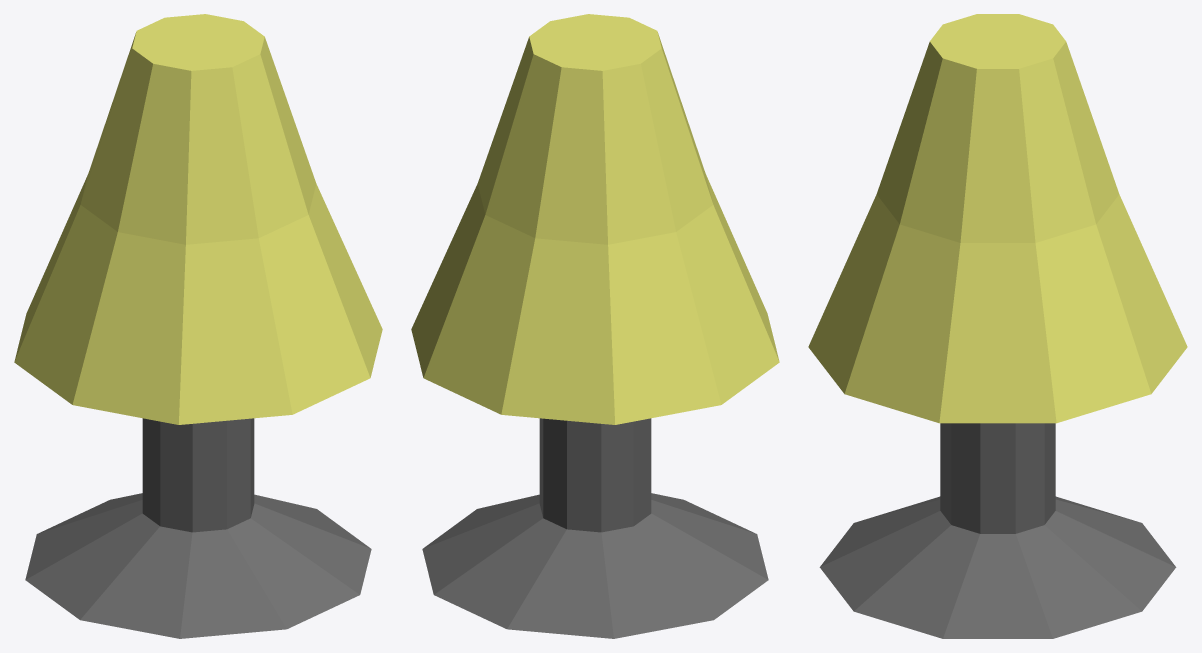
File: Lamp.fbx
3 views of the same model, side by side, from view 1: azimuth 30°, elevation 25°; view 2: azimuth 150°, elevation 25°; view 3: azimuth 270°, elevation 25° (orthographic).
Visible parts, largest first — view 1: Lamp; view 2: Lamp; view 3: Lamp.
Boxes of the visible parts, bbox=[...] form: Lamp: bbox=[14, 14, 382, 638]; Lamp: bbox=[411, 14, 779, 638]; Lamp: bbox=[808, 14, 1187, 638].
Size of the model in its own units: 0.6 by 0.9176 by 0.5706.
